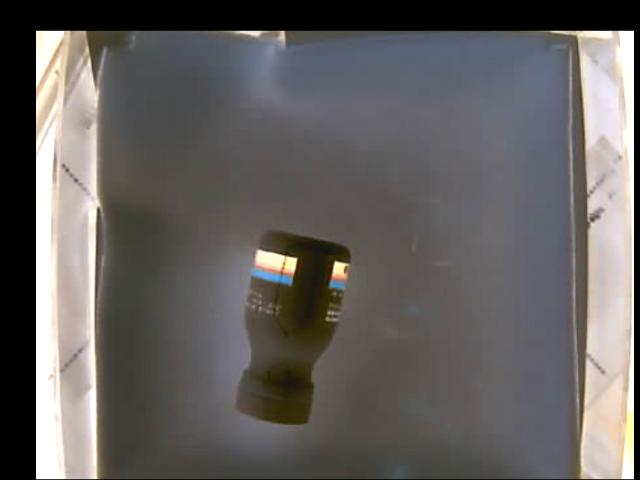Bottle: (240, 230, 350, 426)
